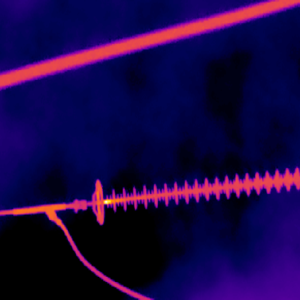insulator: (70, 168, 300, 224)
